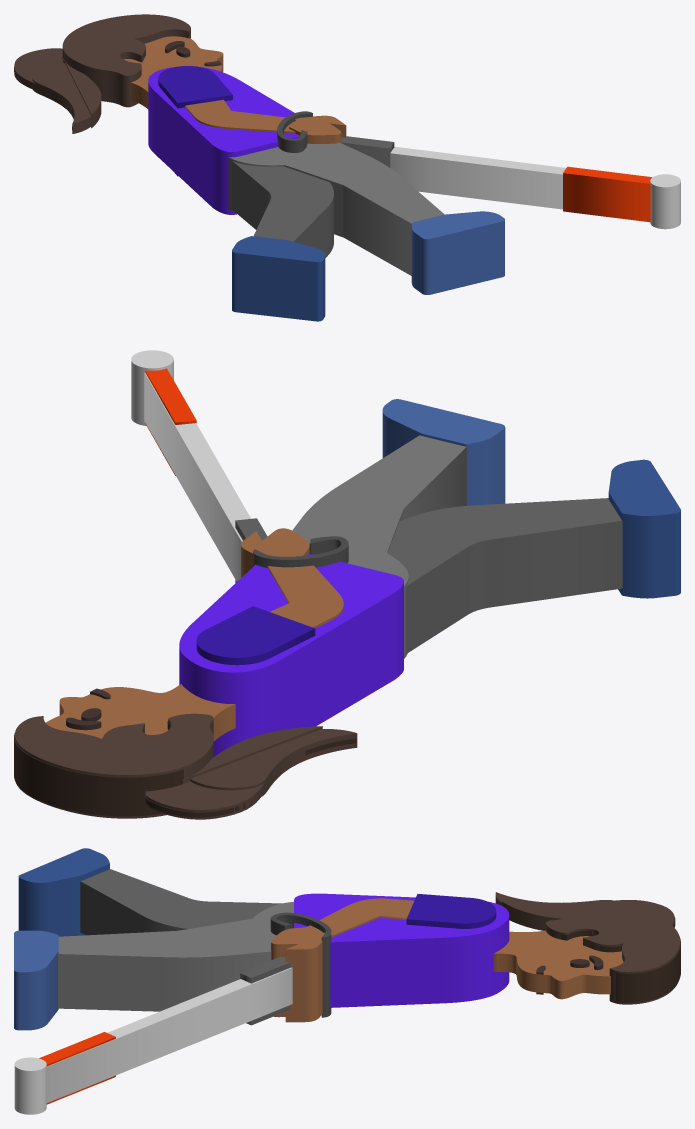
The model's file is emoji_u1f469_1f3fe_200d_1f9af_200d_27a1.glb.
3 renders of one model, top to bottom at view 1: azimuth 30°, elevation 25°; view 2: azimuth 150°, elevation 25°; view 3: azimuth 270°, elevation 25°, orthographic. The views are drawn at different scales.
Parts seen in each view (by area): view 1: emoji_u1f469_1f3fe_200d_1f9af_200d_27a1; view 2: emoji_u1f469_1f3fe_200d_1f9af_200d_27a1; view 3: emoji_u1f469_1f3fe_200d_1f9af_200d_27a1.
Part boxes in pixels (<box>): emoji_u1f469_1f3fe_200d_1f9af_200d_27a1: <box>14,14,680,321</box>; emoji_u1f469_1f3fe_200d_1f9af_200d_27a1: <box>14,350,680,819</box>; emoji_u1f469_1f3fe_200d_1f9af_200d_27a1: <box>14,848,680,1114</box>.
Size of the model in its own units: 0.0252 by 0.0044 by 0.0332.
